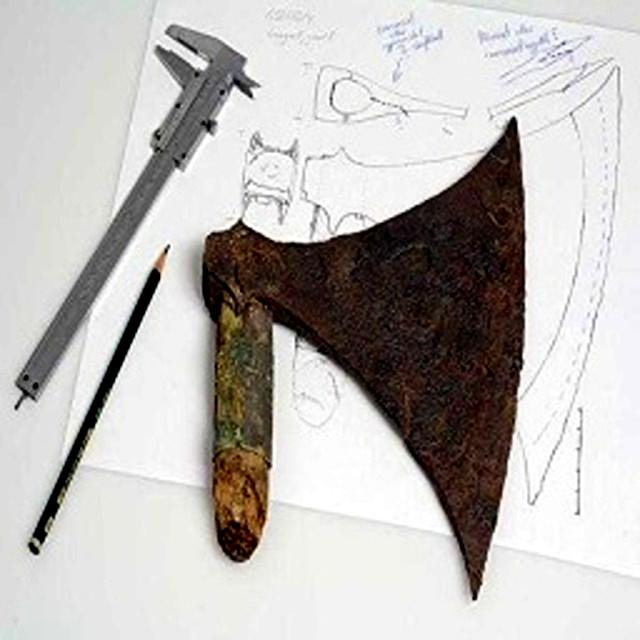ax: (186, 108, 540, 611)
